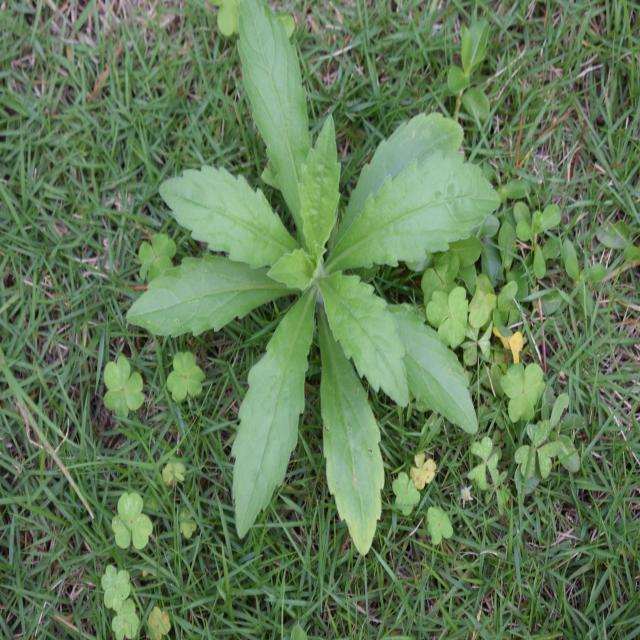horseweed: (180, 76, 498, 512)
